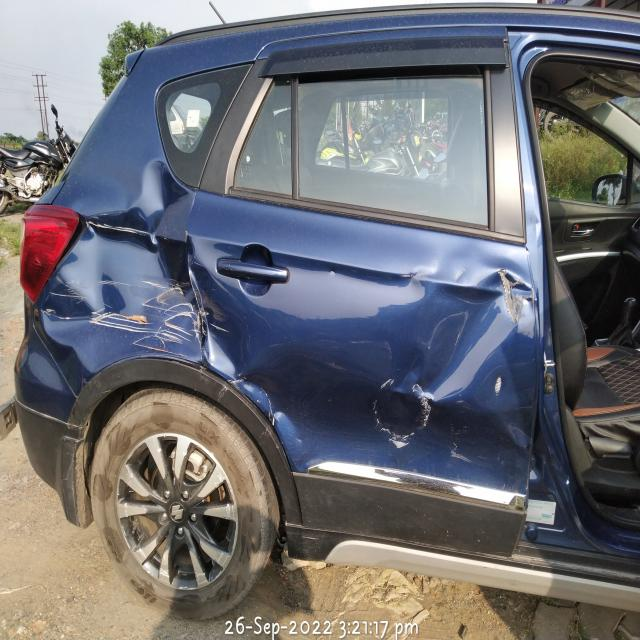damage: (199, 251, 528, 472), (44, 162, 191, 359)
